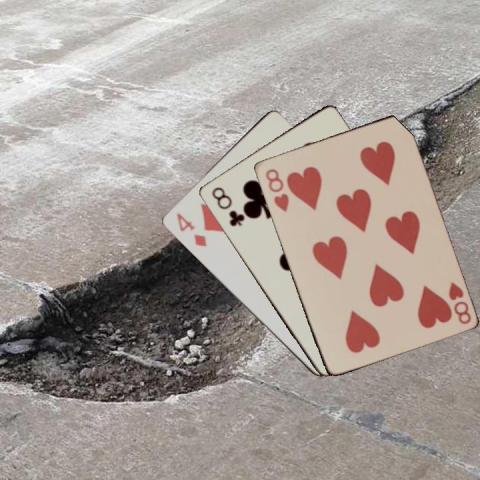4d: (173, 210, 208, 249)
8c: (208, 183, 245, 228)
8h: (262, 166, 290, 214), (445, 278, 472, 325)
